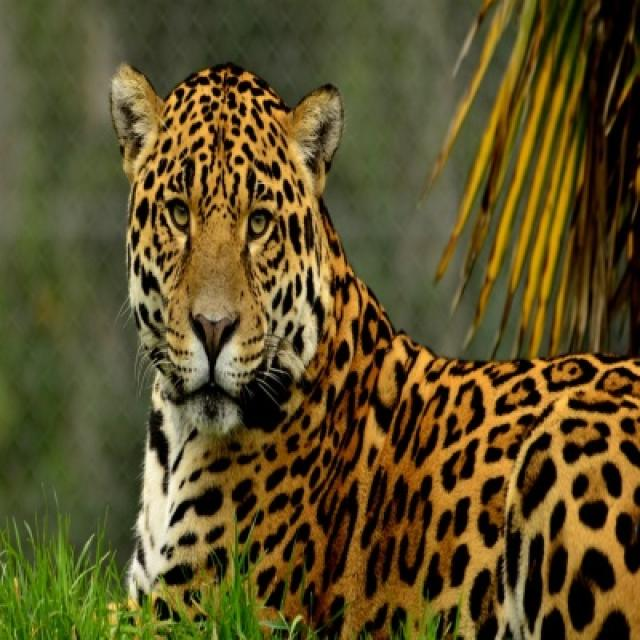Jaguar: (109, 62, 638, 638)
